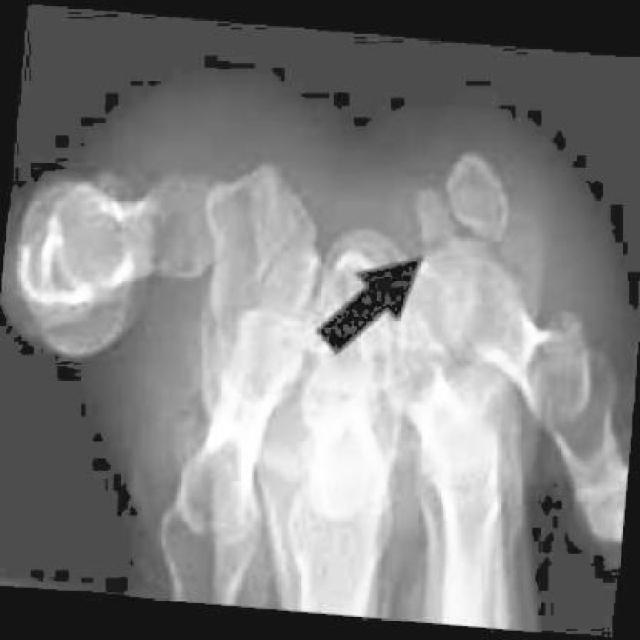Fracture: (414, 217, 467, 270)
